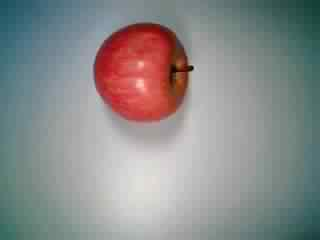apple: (91, 23, 195, 124)
